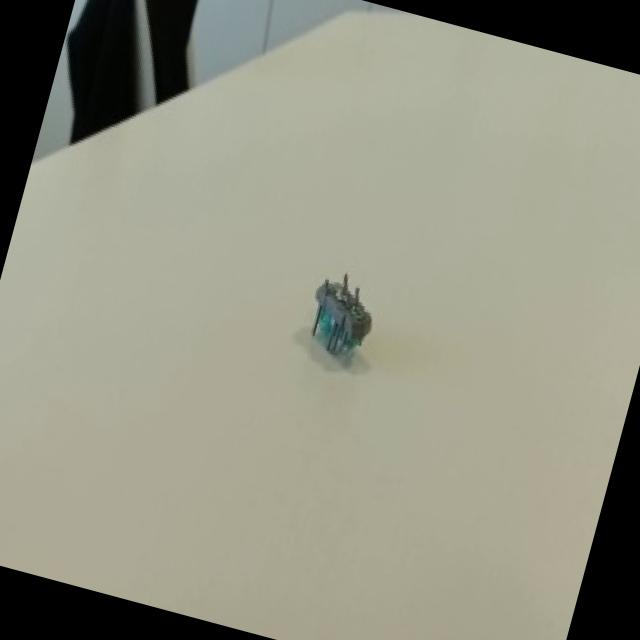5_NanoBug_GrisClaro: (274, 230, 417, 406)
